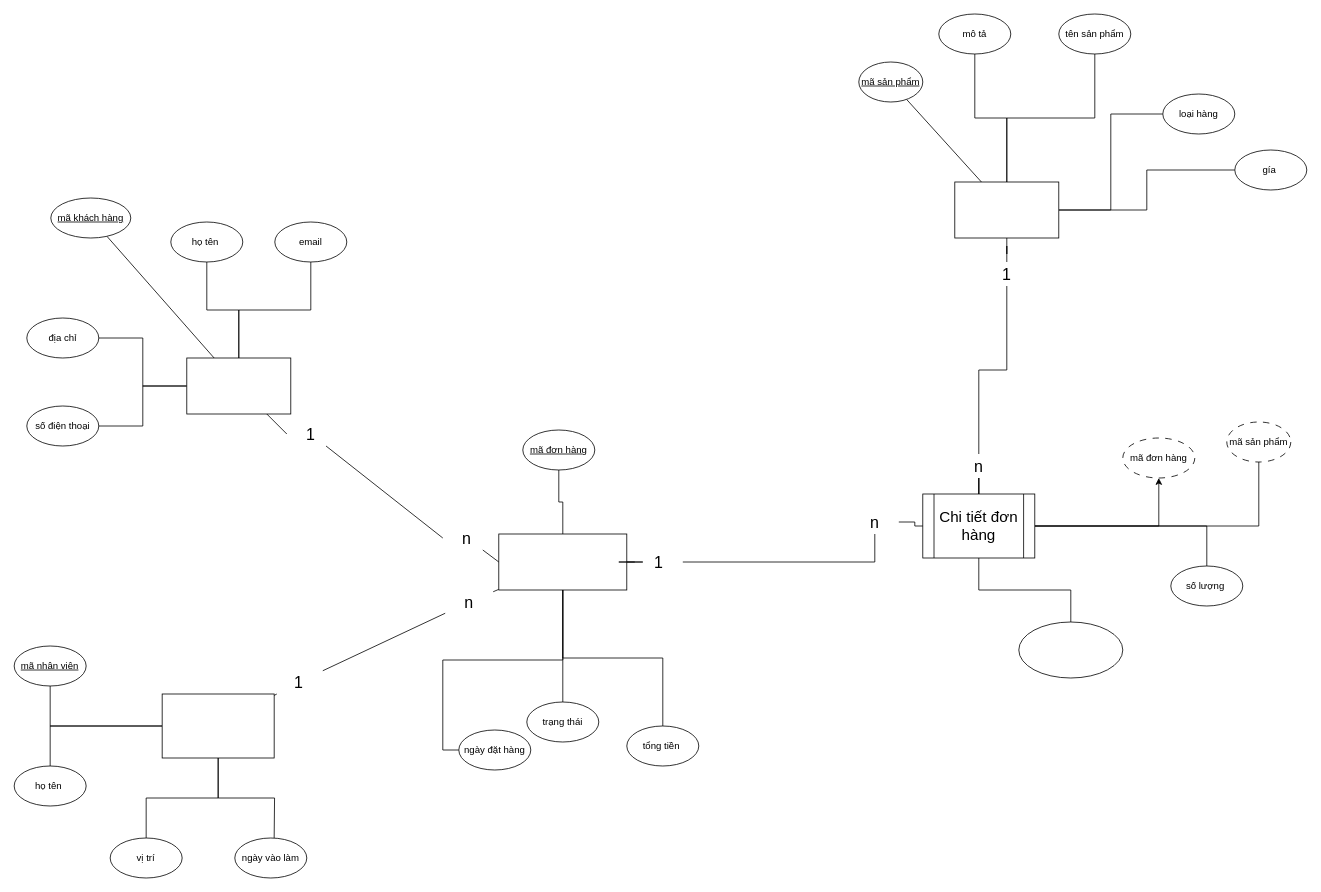
This 1321x892 diagram has some shape labels left out. Here are the shapes that lost their labels. From the top down, the box of each, then its label:
(954, 181, 1059, 238): Sản phẩm
(186, 357, 291, 414): Khách hàng
(498, 533, 627, 590): Đơn hàng
(1018, 621, 1123, 678): đơn giá tại thời điểm mua
(161, 693, 274, 758): Nhân viên
